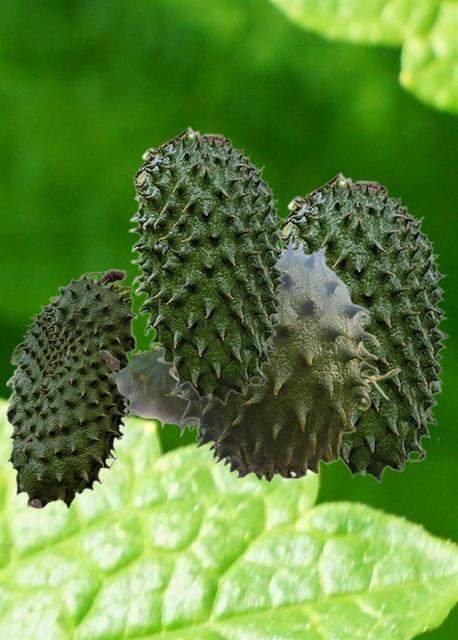guyabano: (156, 235, 401, 483), (277, 171, 449, 482), (128, 125, 287, 404), (4, 268, 137, 509), (99, 339, 197, 436)
